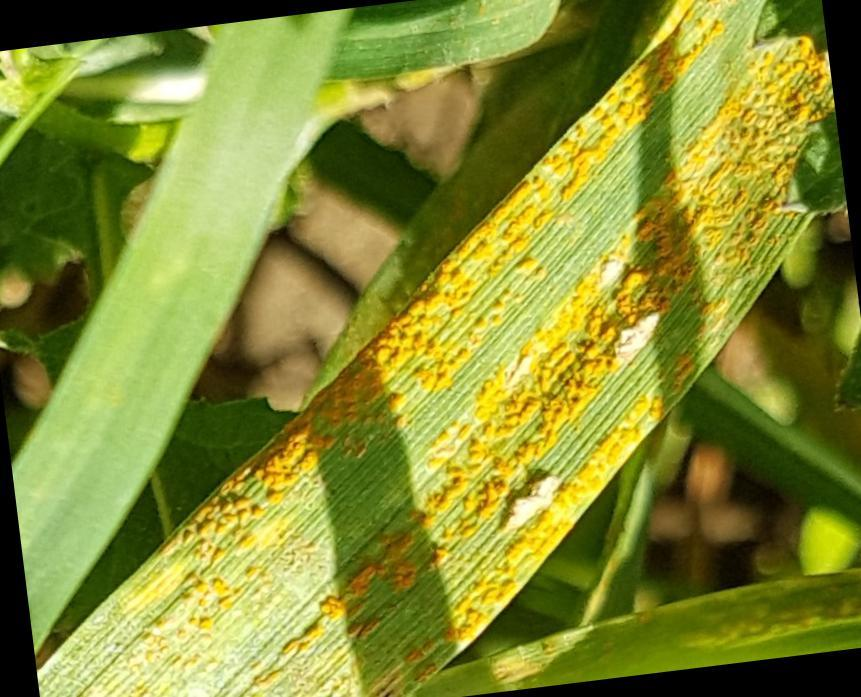Wheat: (284, 46, 827, 688), (167, 7, 726, 590)
